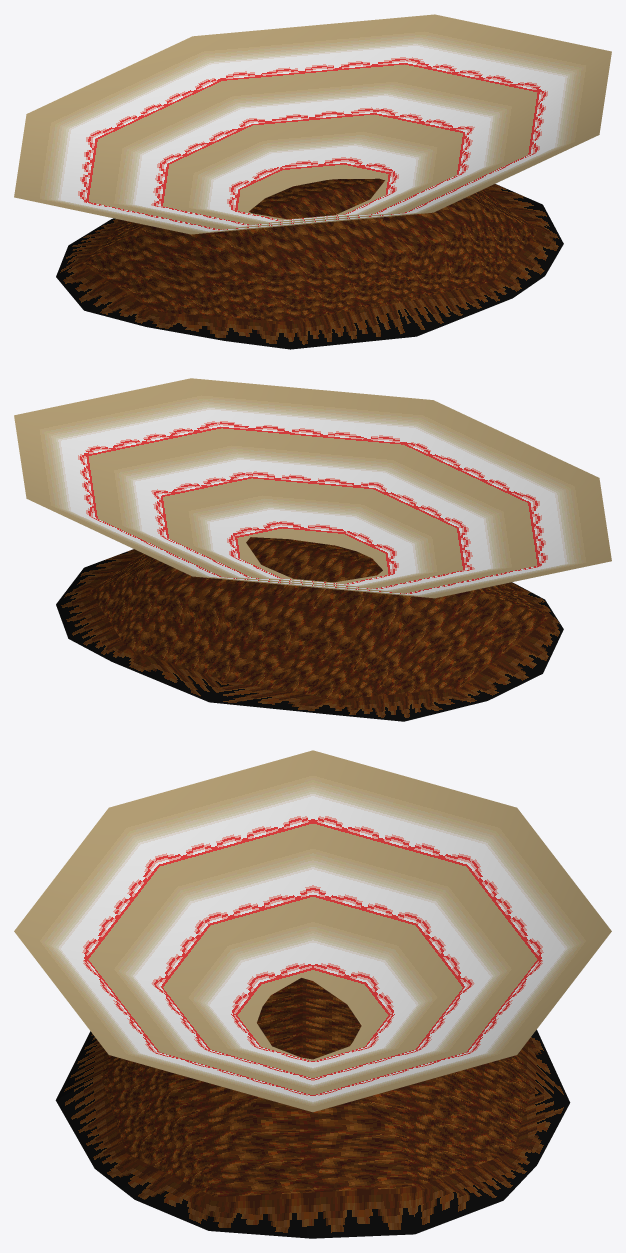
Rendered from 1161ucc_mis_cur0.gltf.
The picture shows the model from 3 angles, top to bottom: view 1: azimuth 30°, elevation 25°; view 2: azimuth 150°, elevation 25°; view 3: azimuth 270°, elevation 25°; orthographic projection. The views are drawn at different scales.
Visible parts, largest first — view 1: 1161ucc_mis_cur0; view 2: 1161ucc_mis_cur0; view 3: 1161ucc_mis_cur0.
Part boxes in pixels (left/top/right/bottom): 1161ucc_mis_cur0: left=14, top=14, right=611, bottom=349; 1161ucc_mis_cur0: left=14, top=378, right=611, bottom=721; 1161ucc_mis_cur0: left=14, top=750, right=611, bottom=1238.
Size of the model in its own units: 0.8779 by 0.1958 by 0.6128.
Materials: 5 (5 with a texture image).
